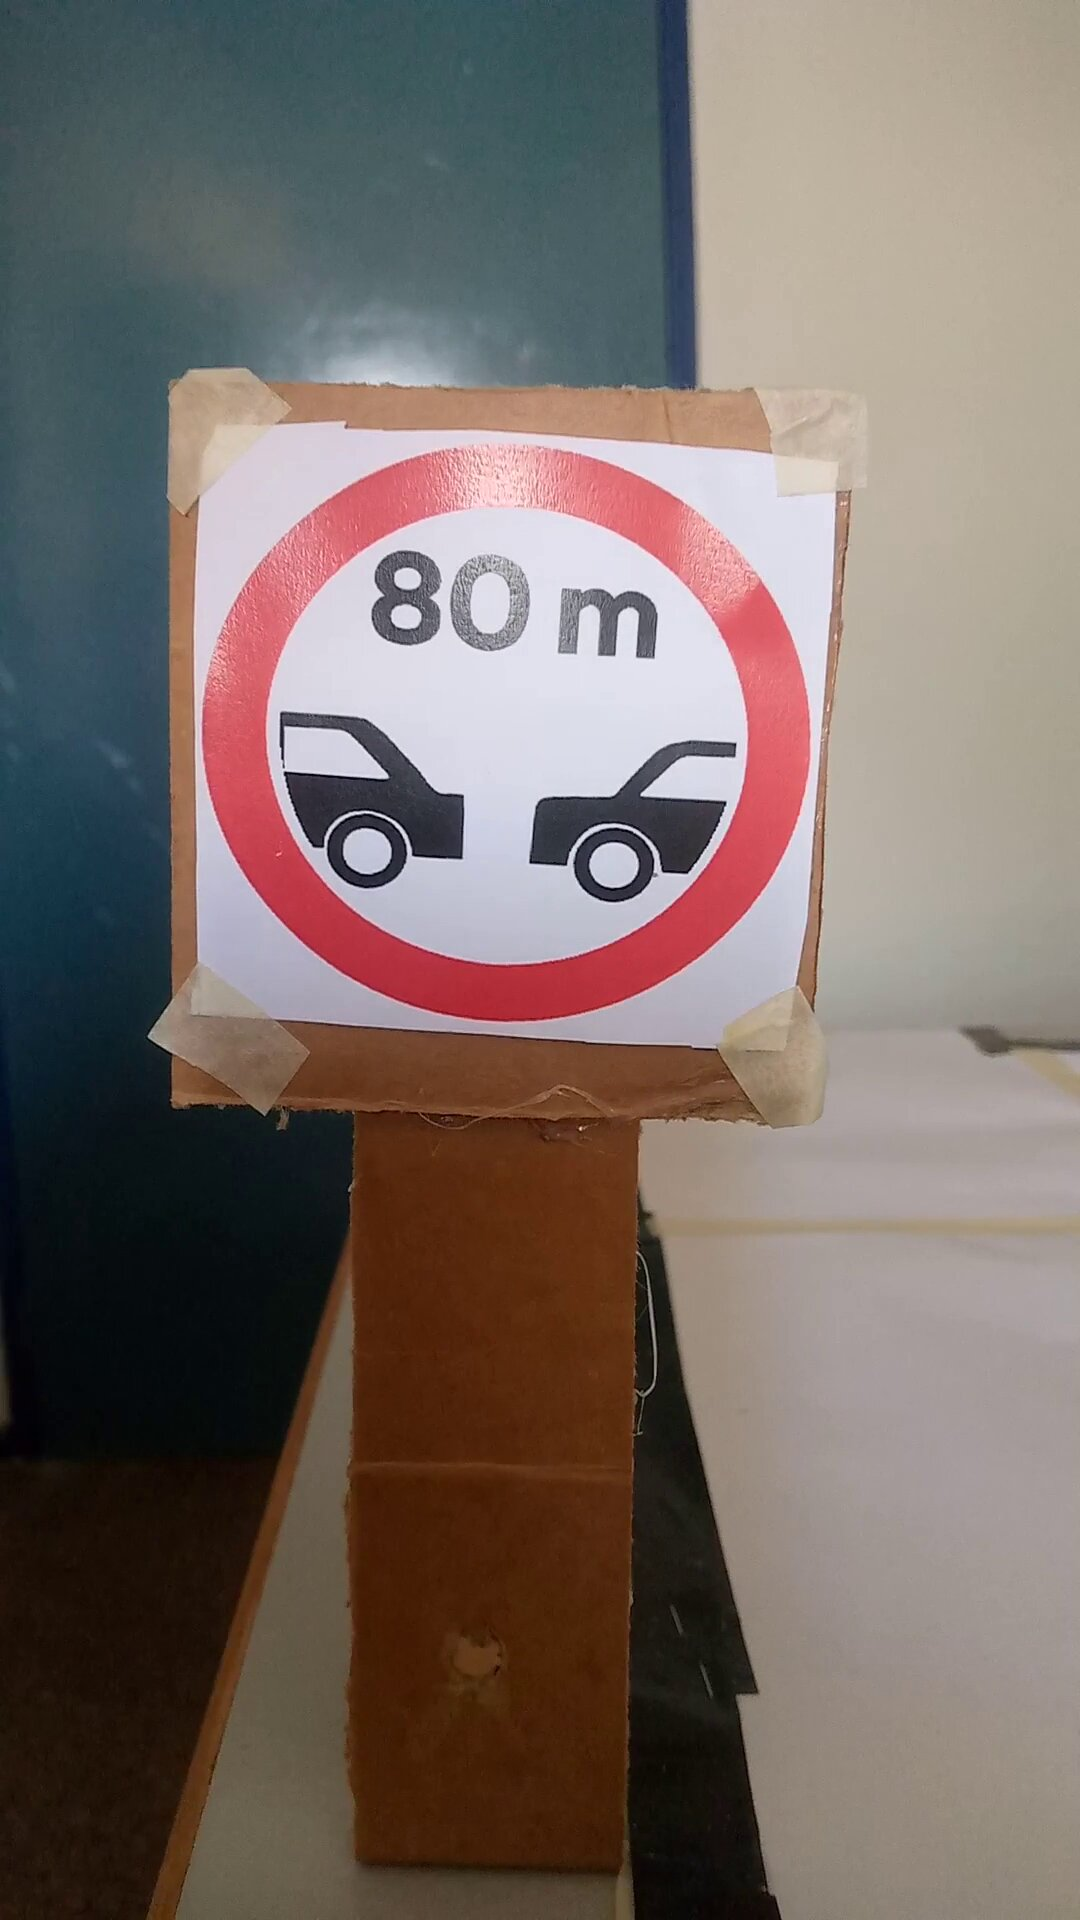panel001: (164, 371, 847, 1124)
